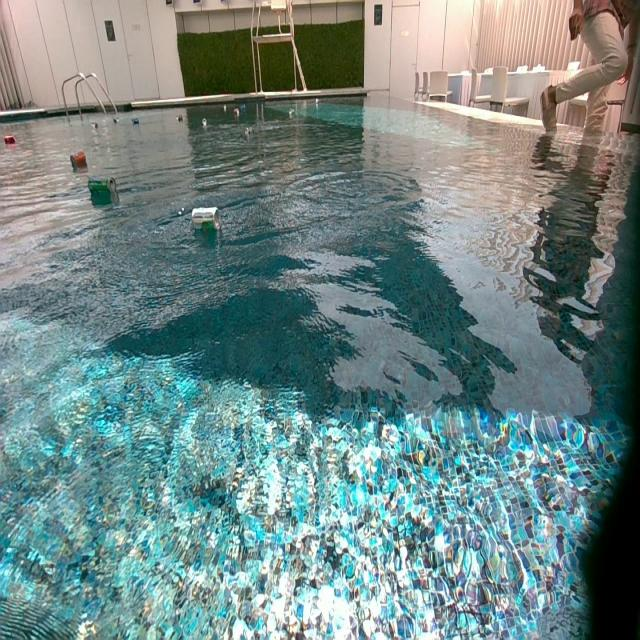Cans: (192, 204, 221, 235), (89, 176, 117, 196), (70, 154, 87, 170), (4, 134, 16, 146), (246, 128, 253, 139), (132, 116, 140, 125), (176, 114, 184, 122), (92, 122, 100, 130), (202, 117, 209, 126), (241, 104, 248, 112), (233, 110, 241, 117), (112, 116, 119, 124), (288, 108, 294, 116), (222, 105, 228, 113), (316, 100, 321, 106)
